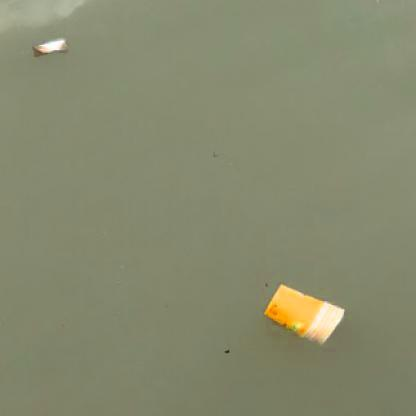Plastic: (264, 280, 347, 351)
